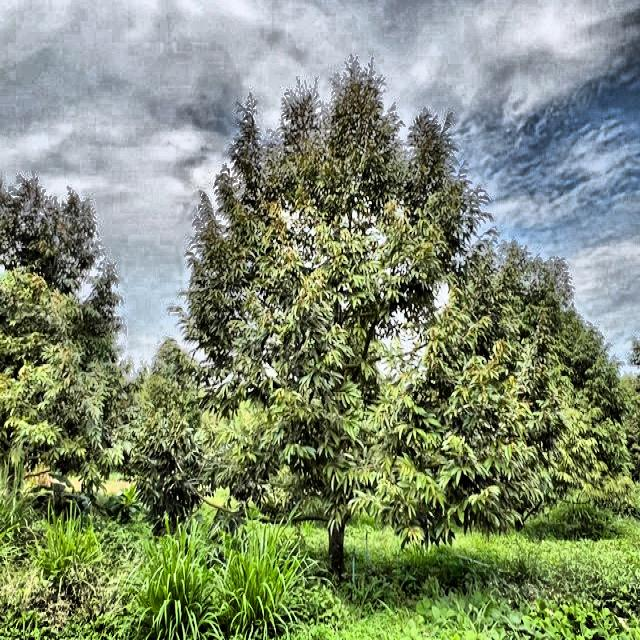arvore: (319, 423, 355, 588)
